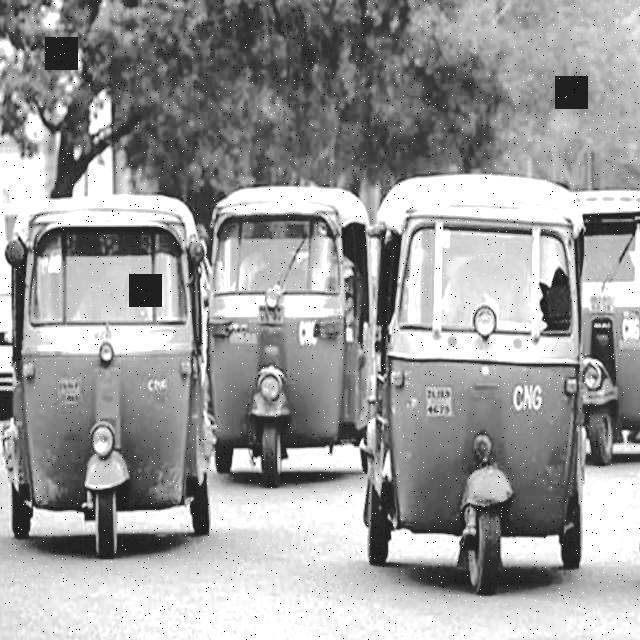Auto-Rickshaw: (370, 185, 600, 623), (4, 180, 218, 581), (202, 185, 383, 515)
